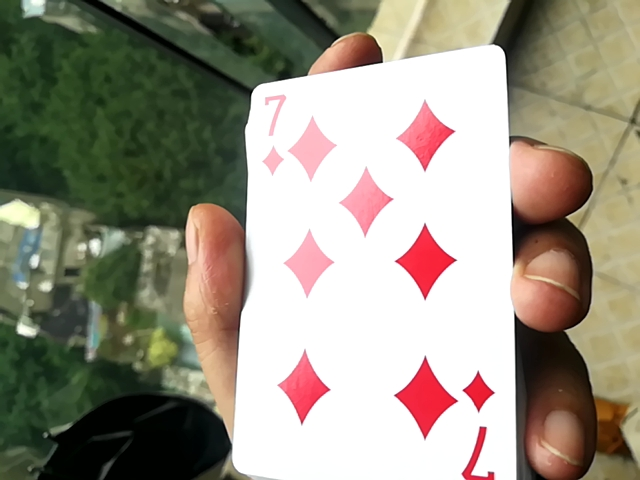fk 7: (215, 34, 508, 480)
